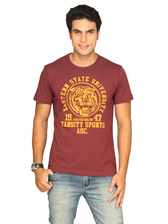clothoes: (32, 49, 135, 179)
watch: (26, 158, 49, 172)
